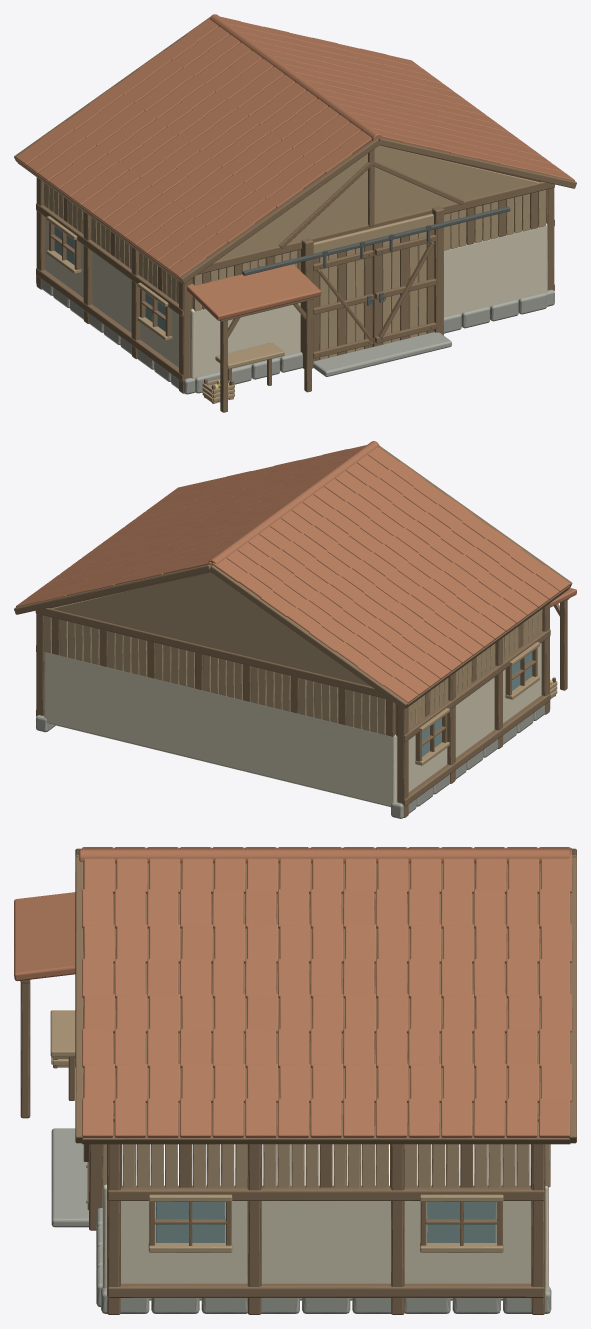
File: SM_Barn.fbx
3 renders of one model, top to bottom at view 1: azimuth 30°, elevation 25°; view 2: azimuth 150°, elevation 25°; view 3: azimuth 270°, elevation 25°, orthographic. The views are drawn at different scales.
Visible parts, largest first — view 1: SM_Barn; view 2: SM_Barn; view 3: SM_Barn.
Boxes of the visible parts, bbox=[...] form: SM_Barn: bbox=[14, 14, 576, 412]; SM_Barn: bbox=[14, 441, 576, 818]; SM_Barn: bbox=[14, 847, 576, 1314].
Bounding box in the file's own units: 1086 × 897 × 582.
